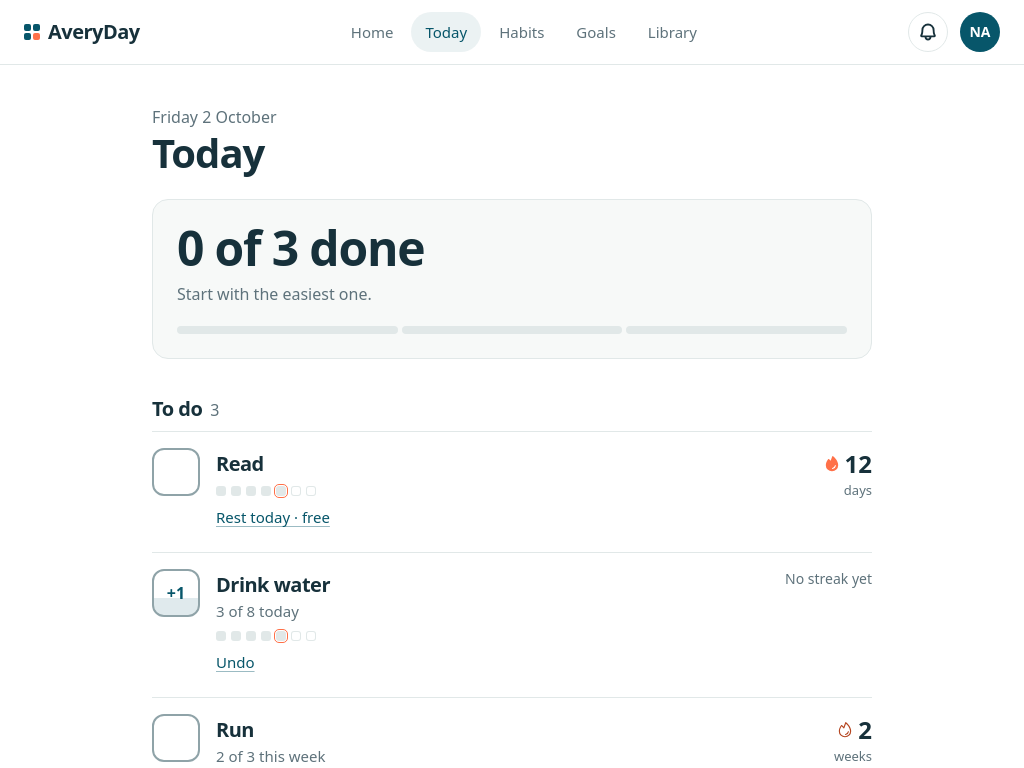
the Today page › puts the tap back and says so when the check-in cannot be saved
The image size is (1024, 768).
Click the button named "Mark Read done".
click(176, 472)  # box [152,448,200,496]
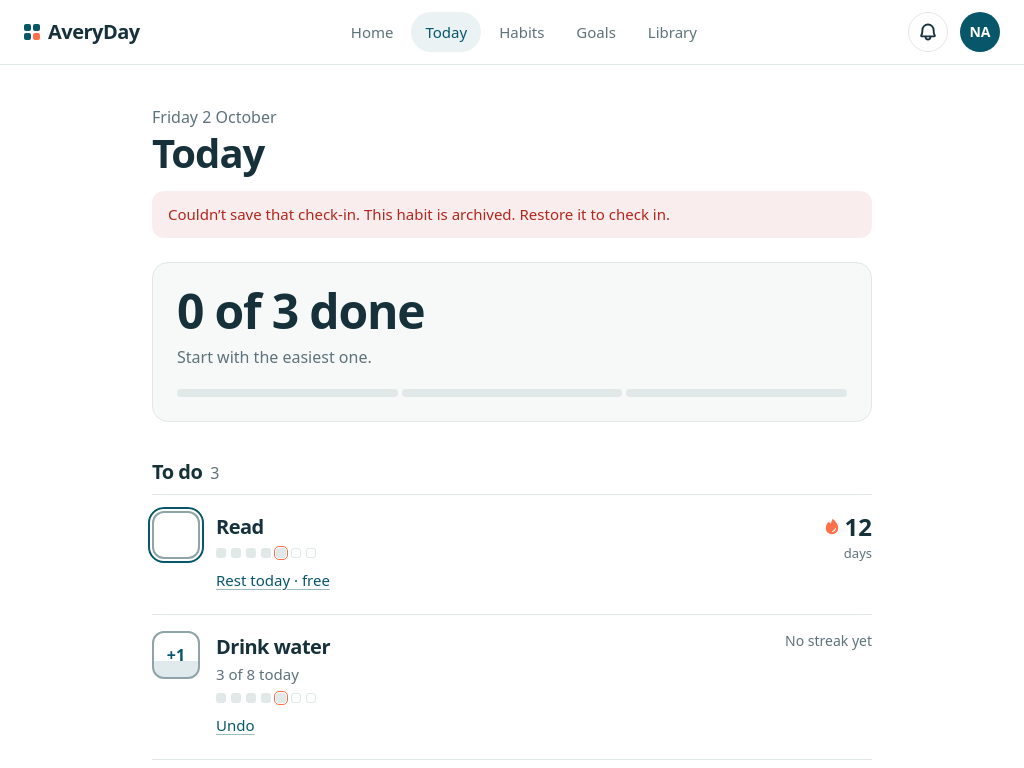
Expected: the heading "Read" is shown, [216,512,264,540]
Now the message shows "This habit is archived", box [364,204,670,224]
